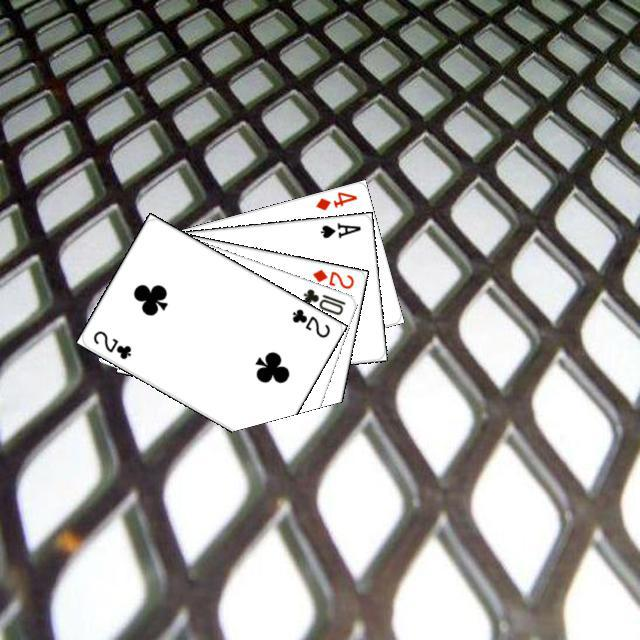10c: (298, 284, 347, 317)
2c: (287, 303, 332, 340), (88, 326, 133, 361)
2d: (307, 264, 356, 291)
4d: (311, 187, 359, 212)
As: (315, 218, 362, 240)
